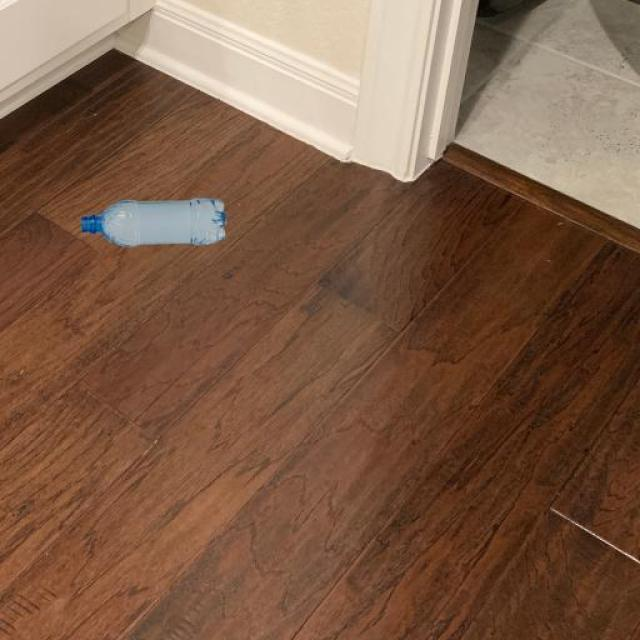bottle: (78, 195, 226, 248)
